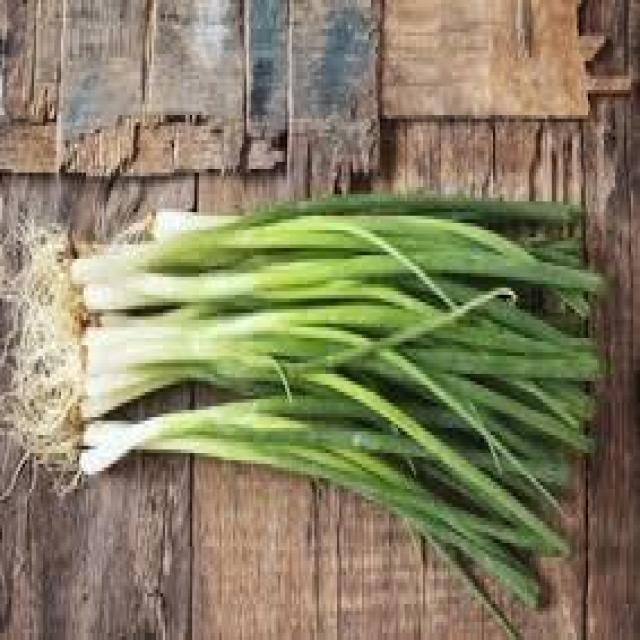Onion: (0, 190, 608, 640)
